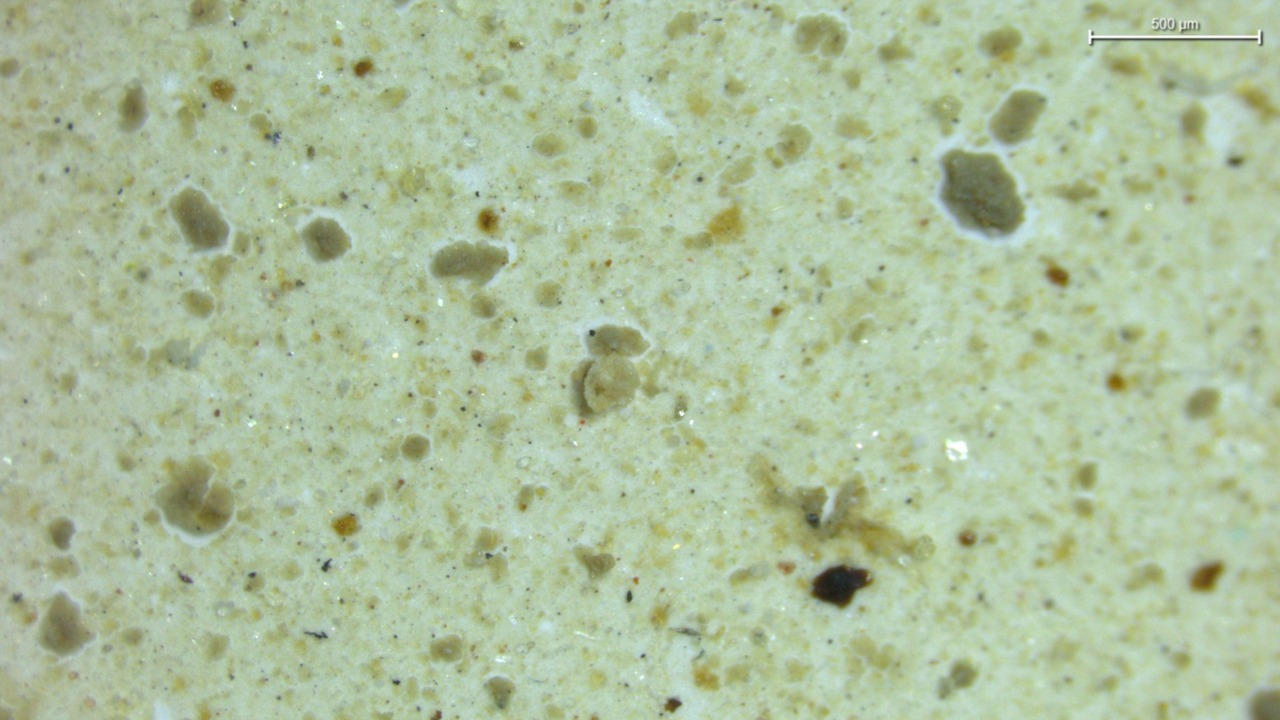microplastic_fragment: (584, 355, 639, 413)
